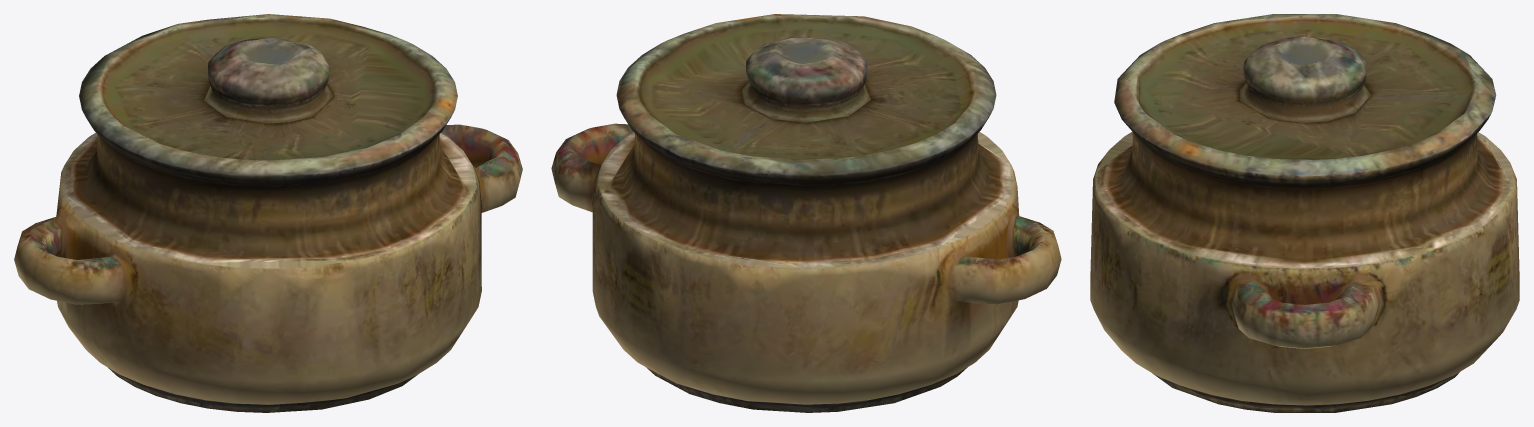
Rendered from ceramic_pot.glb.
3 views of the same model, side by side, from view 1: azimuth 30°, elevation 25°; view 2: azimuth 150°, elevation 25°; view 3: azimuth 270°, elevation 25° (orthographic).
Visible parts, largest first — view 1: ceramic_pot; view 2: ceramic_pot; view 3: ceramic_pot.
Part boxes in pixels (x1,y1,x2,y2): ceramic_pot: [14, 14, 522, 412]; ceramic_pot: [551, 14, 1061, 412]; ceramic_pot: [1090, 14, 1519, 412].
Bounding box in the file's own units: 0.6563 × 0.3717 × 0.4989.
Materials: 1 (1 with a texture image).
